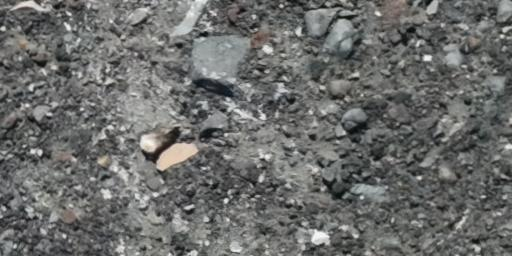skua: (131, 127, 181, 155)
